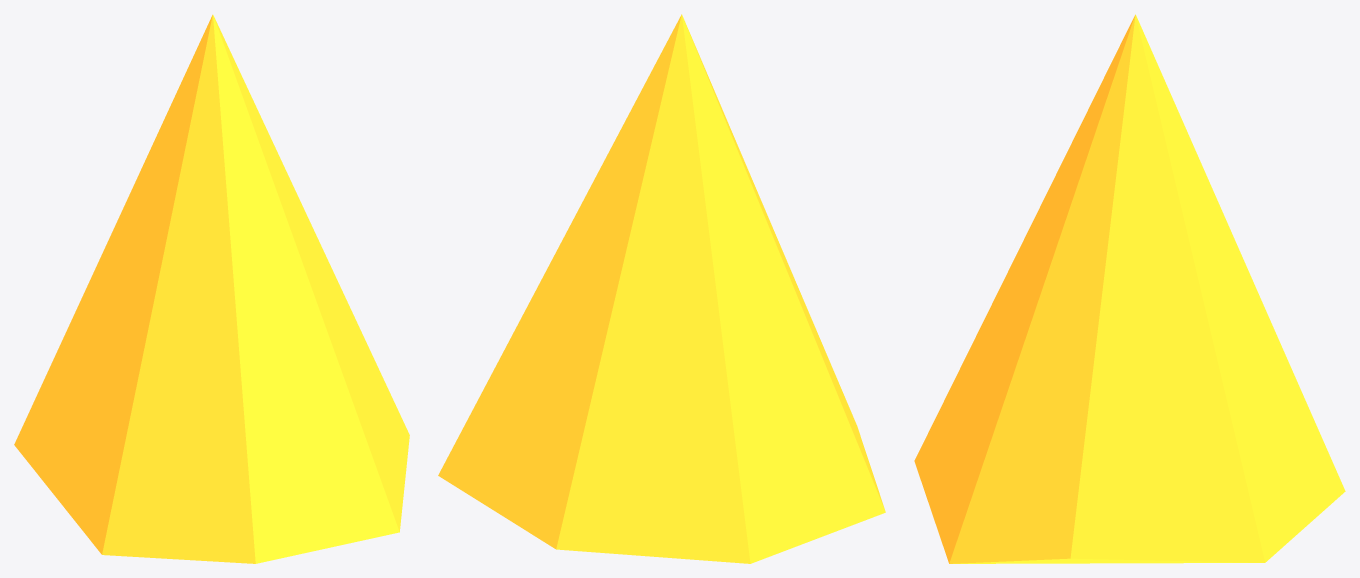
File: flamme.glb
The picture shows the model from 3 angles, left to right: view 1: azimuth 30°, elevation 25°; view 2: azimuth 150°, elevation 25°; view 3: azimuth 270°, elevation 25°; orthographic projection. The views are drawn at different scales.
Parts seen in each view (by area): view 1: Cone; view 2: Cone; view 3: Cone.
Boxes of the visible parts, <box> form: Cone: <box>14,14,409,563</box>; Cone: <box>438,14,885,563</box>; Cone: <box>914,14,1345,563</box>.
Size of the model in its own units: 0.4437 by 0.6215 by 0.4859.
